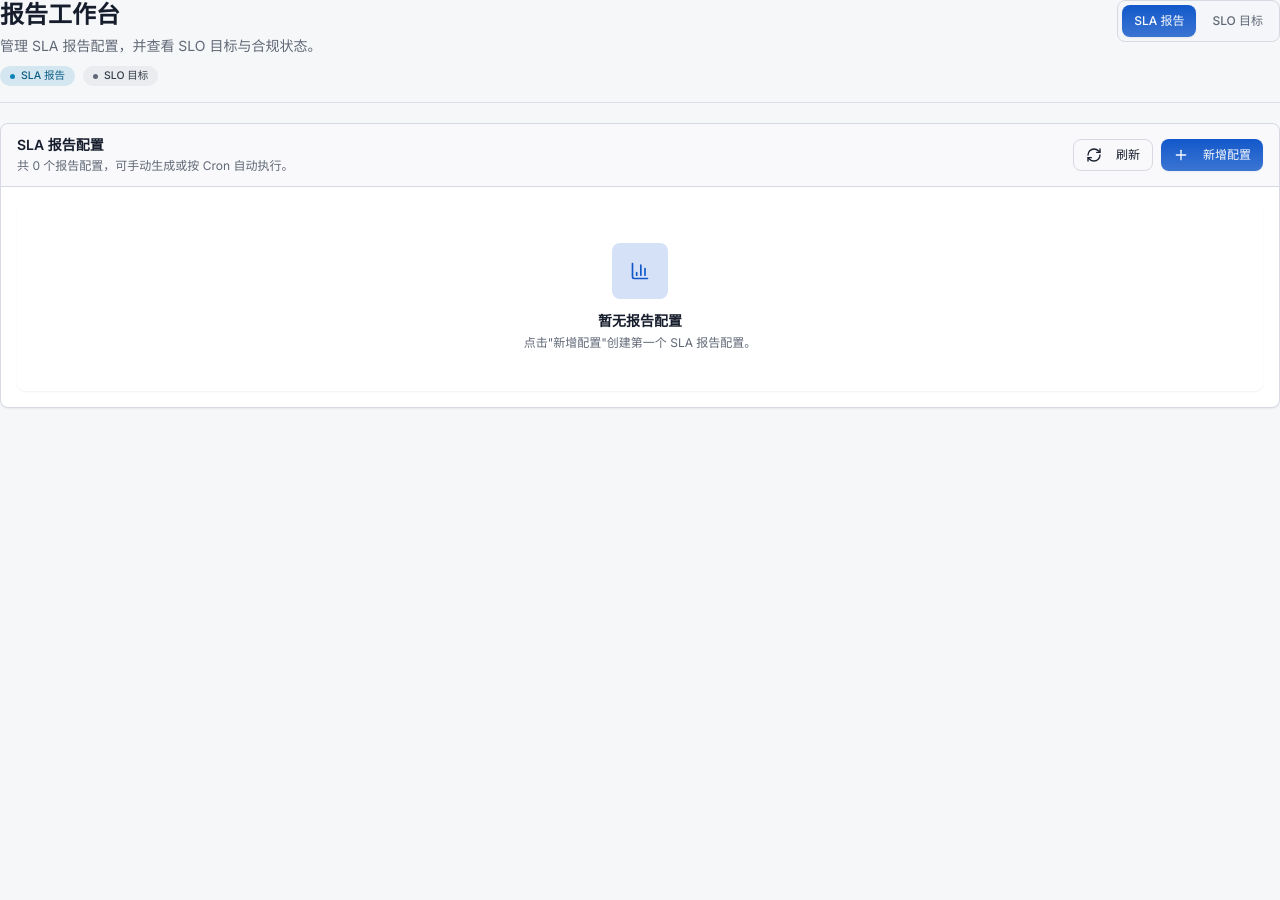
Test: ReportsPage › focuses scope and period from their labels and keeps the selected values
The image size is (1280, 900).
Expected: the heading "暂无报告配置" is shown, [598,310,682,330]
Click the button "新增配置" at (1212, 155), box [1161,139,1263,171]
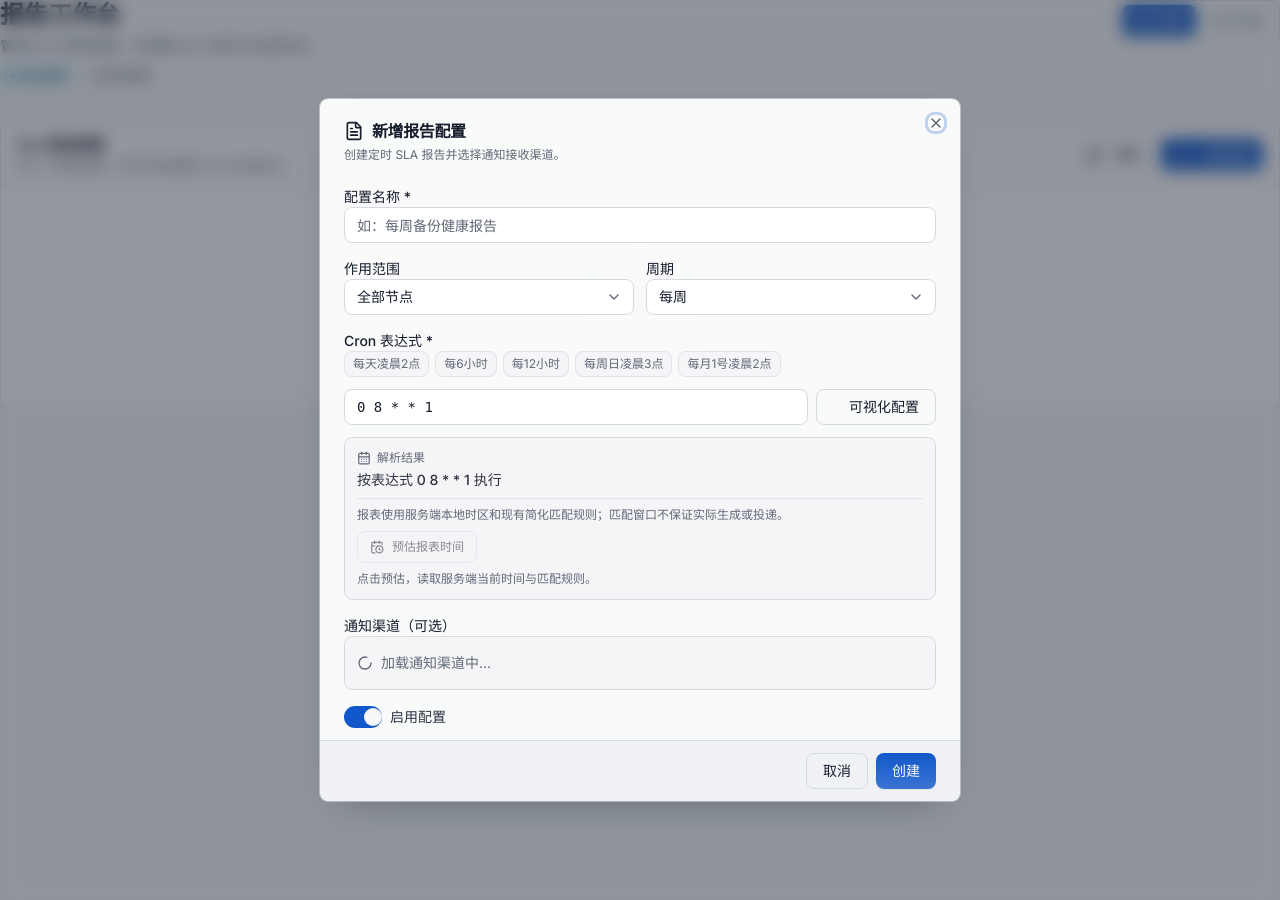
Expected: the dialog "新增报告配置" is shown, [320,99,960,801]
Click the text "作用范围" at (372, 268), box [344,260,400,277]
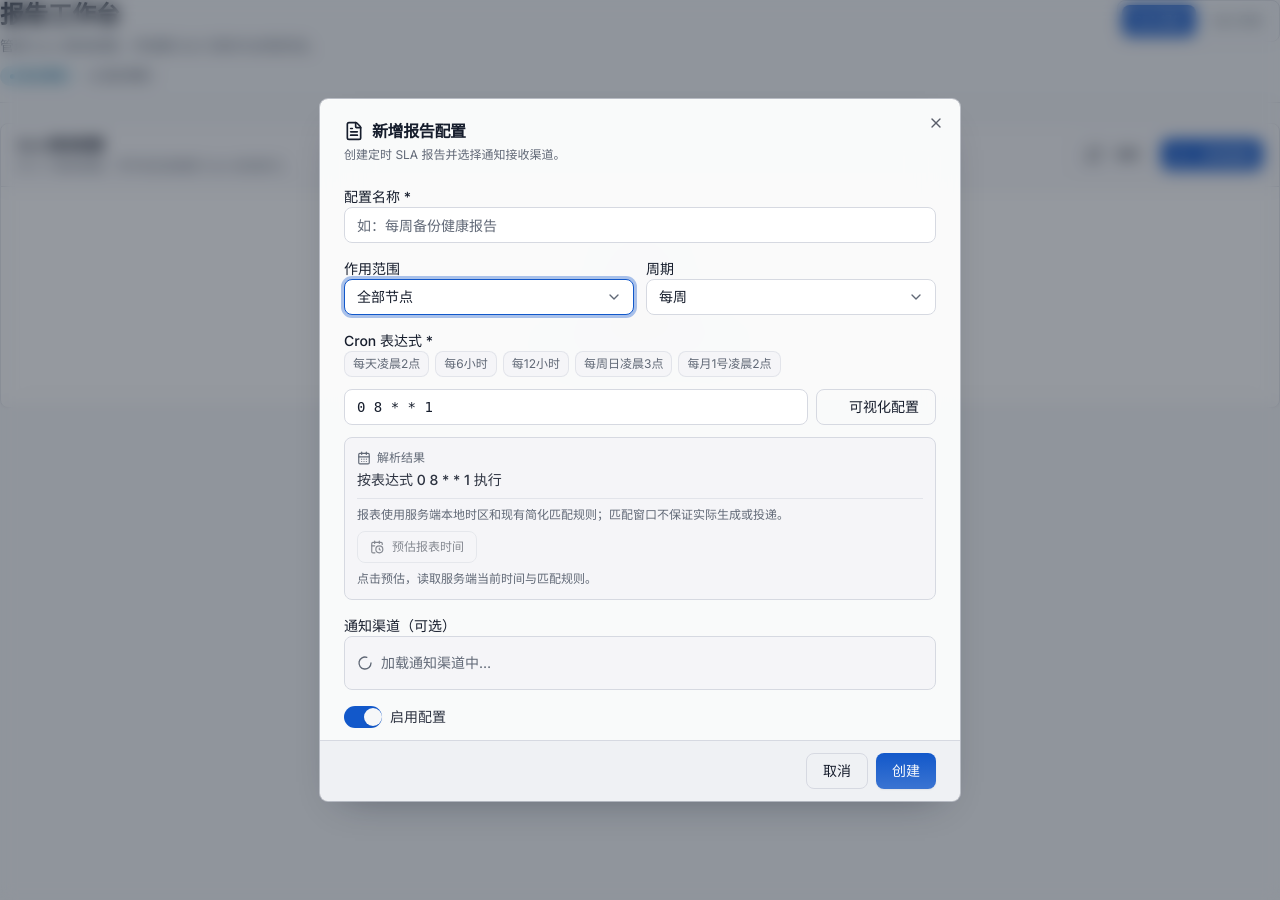
Expected: the dropdown labelled "作用范围" shows "全部节点"
Select "按标签筛选" in the dropdown labelled "作用范围" at (489, 297), box [344,279,634,315]
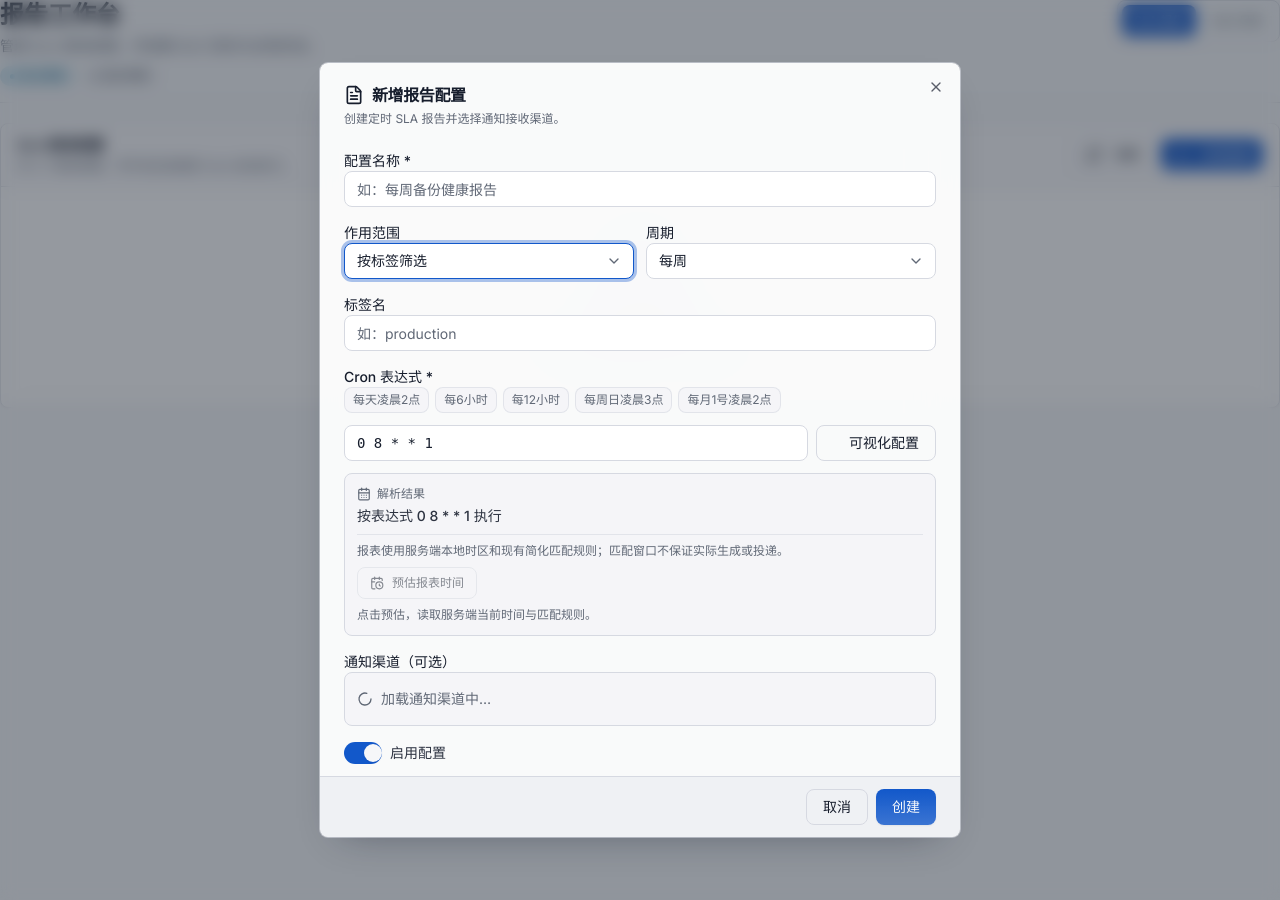
Click the text "周期" at (660, 232), box [646,224,674,241]
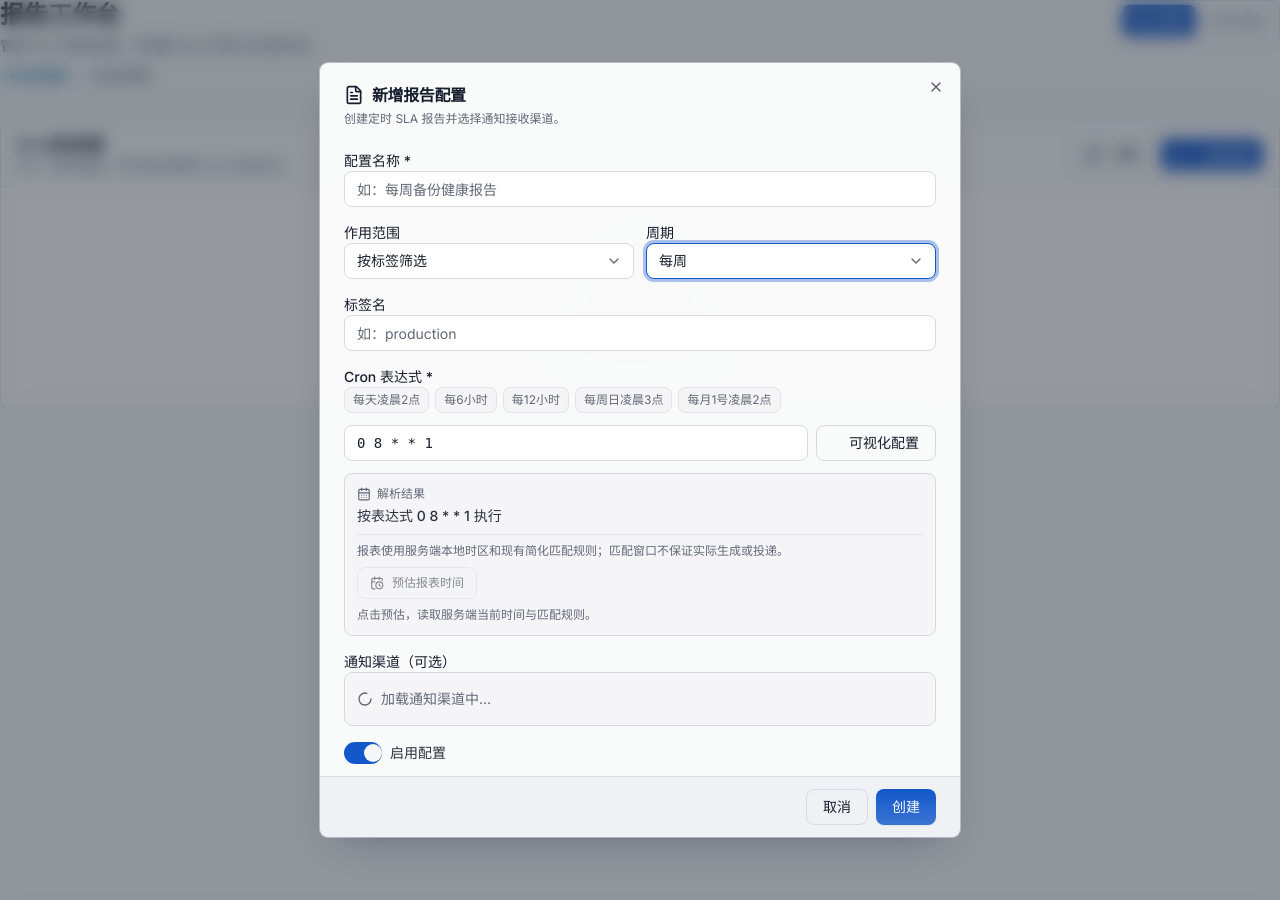
Expected: the dropdown labelled "周期" shows "每周"
Select "每月" in the dropdown labelled "周期" at (791, 261), box [646,243,936,279]
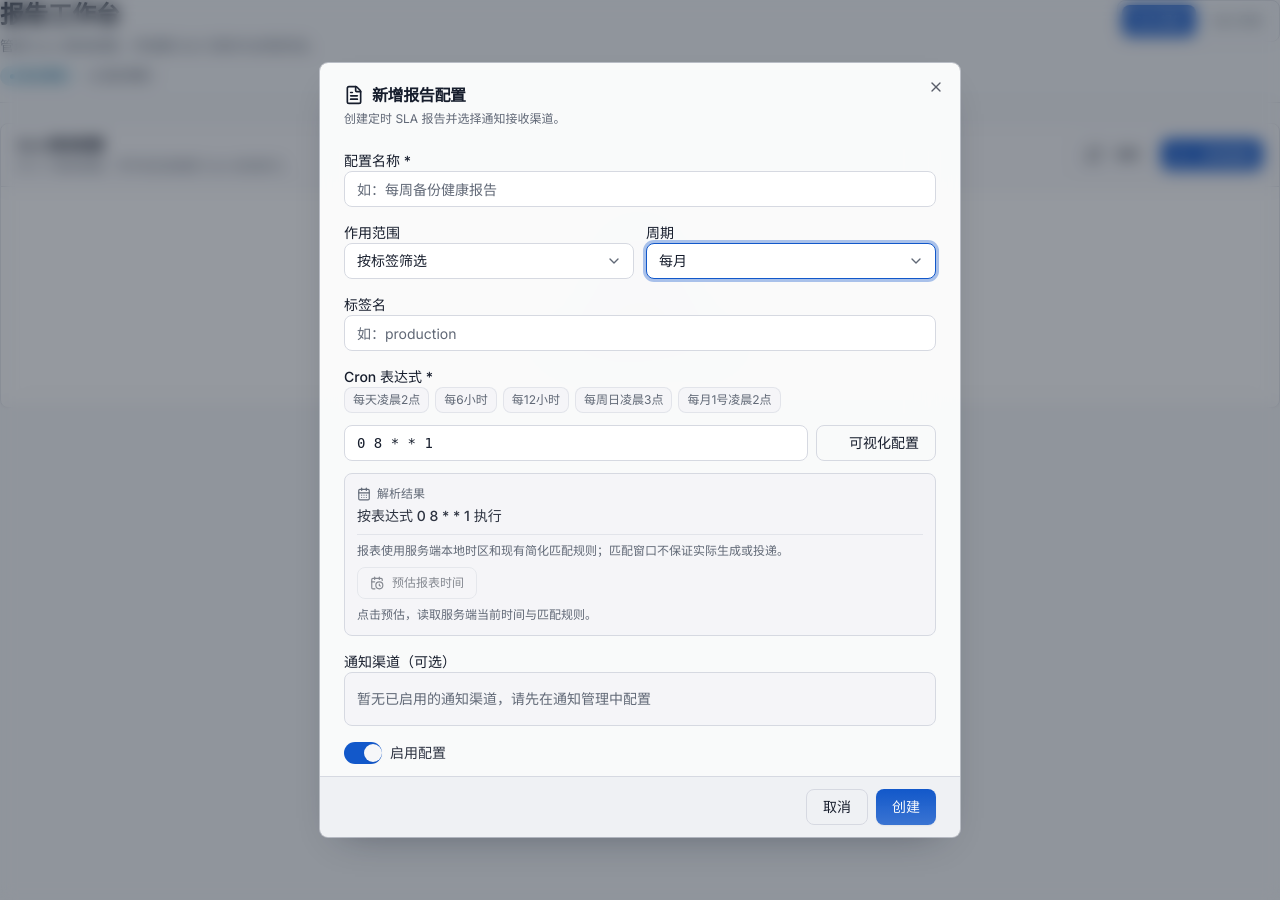
Expected: the text "暂无已启用的通知渠道，请先在通知管理中配置" is shown, [357,690,651,707]
